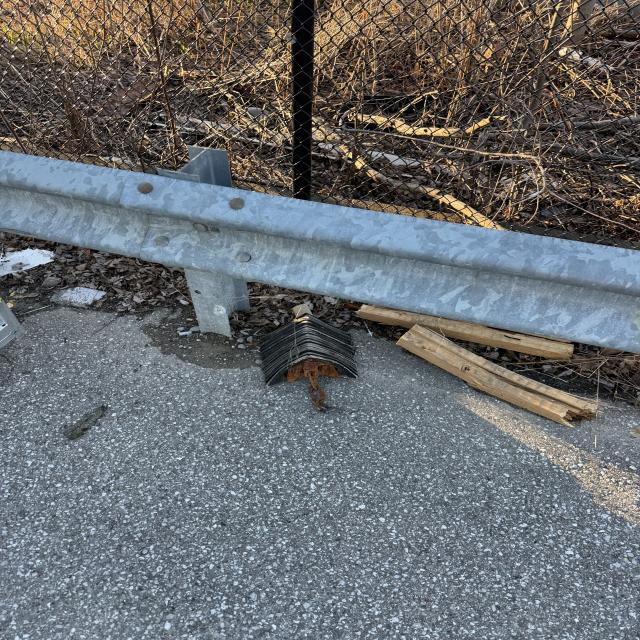Guard rail: (13, 156, 619, 336)
